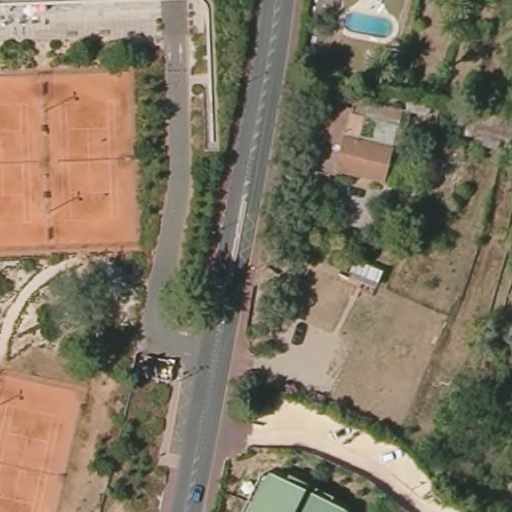pool: (341, 10, 396, 40)
